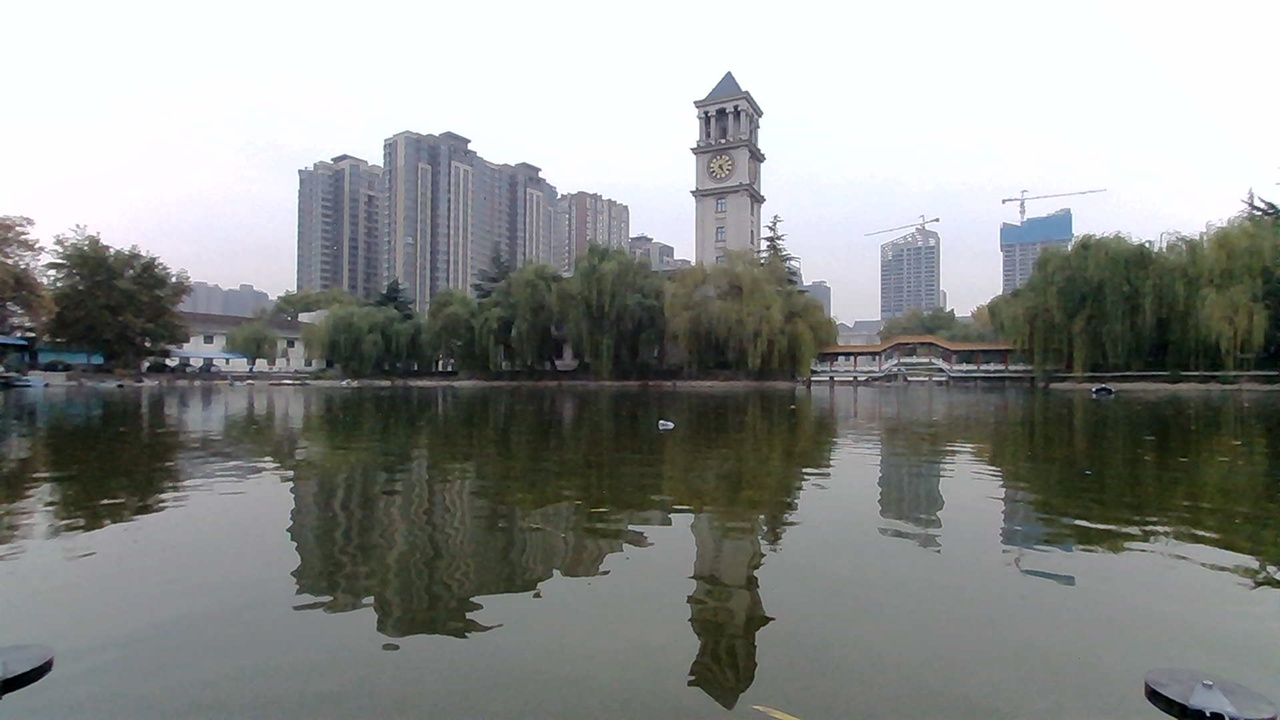bottle: (646, 409, 698, 447)
